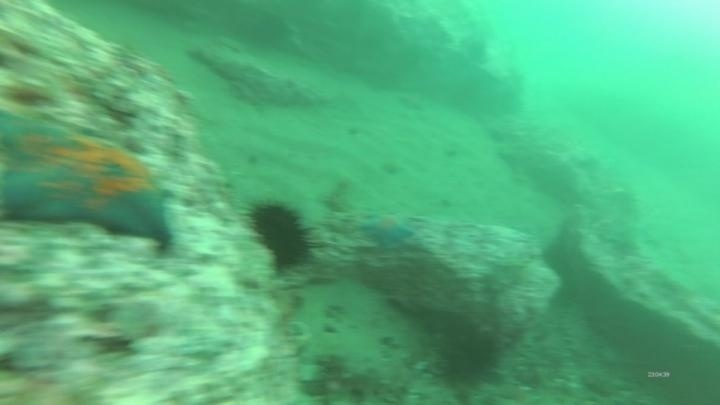echinus: (243, 196, 319, 273), (430, 323, 503, 390)
starfish: (0, 112, 179, 252), (357, 208, 417, 251)
